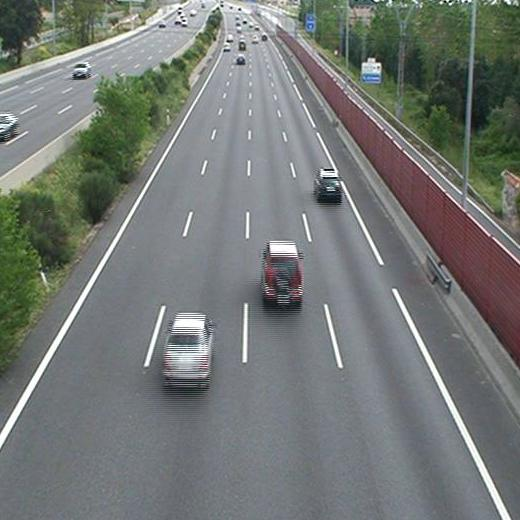car: (163, 313, 212, 381), (262, 242, 302, 300), (316, 170, 341, 195), (238, 40, 247, 51), (222, 42, 232, 51), (237, 55, 246, 64)
